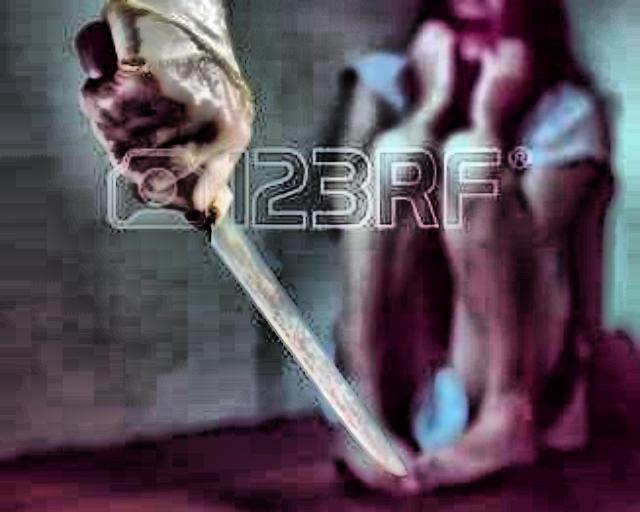knife: (112, 94, 410, 484)
